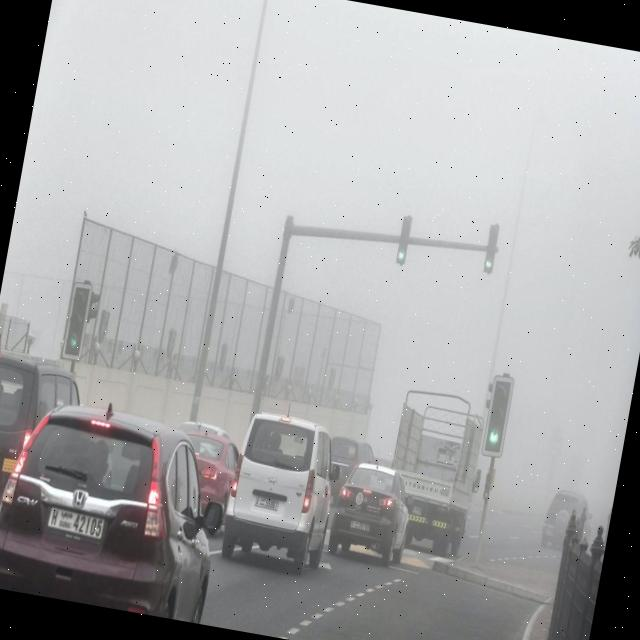bus: (376, 382, 493, 558)
car: (0, 385, 236, 620), (212, 404, 346, 580), (0, 346, 89, 578), (158, 418, 244, 544), (326, 456, 418, 568), (538, 485, 598, 556), (322, 430, 378, 490)
